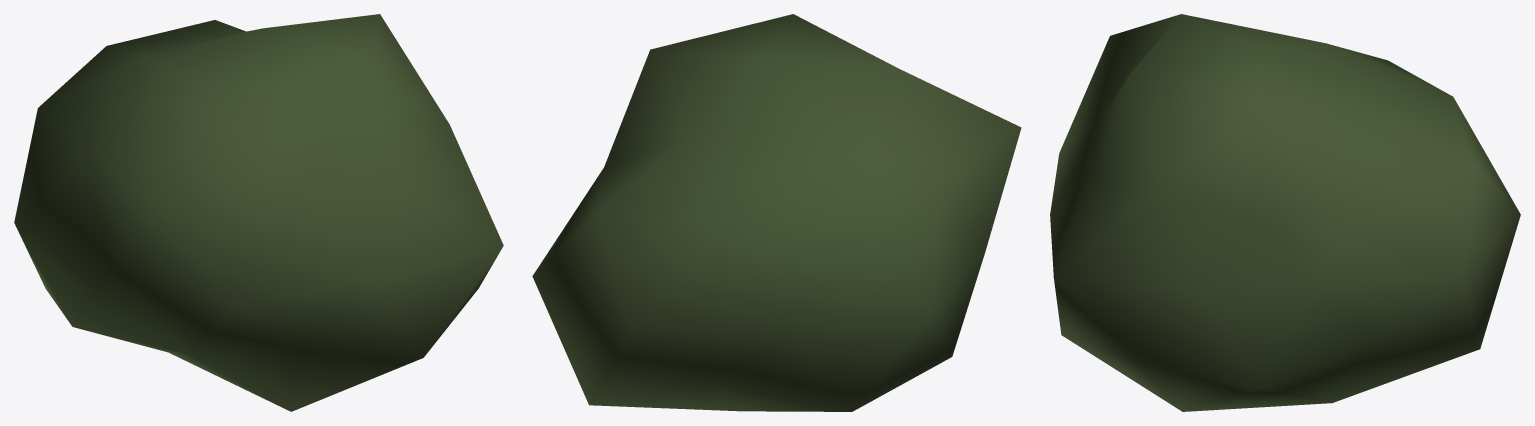
The model's file is shrub_bush_01.glb.
3 renders of one model, left to right at view 1: azimuth 30°, elevation 25°; view 2: azimuth 150°, elevation 25°; view 3: azimuth 270°, elevation 25°, orthographic. The views are drawn at different scales.
Parts seen in each view (by area): view 1: shrub_bush_01; view 2: shrub_bush_01; view 3: shrub_bush_01.
Boxes of the visible parts, x1,y1,x2,y2 form: shrub_bush_01: (14, 14, 503, 411); shrub_bush_01: (532, 14, 1021, 411); shrub_bush_01: (1050, 14, 1520, 411).
Size of the model in its own units: 3.11 by 2.67 by 3.38.
